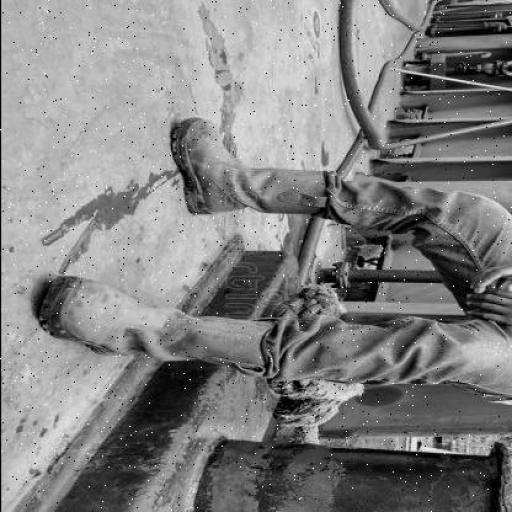safety_shoe: (42, 274, 266, 367), (176, 129, 329, 219)
